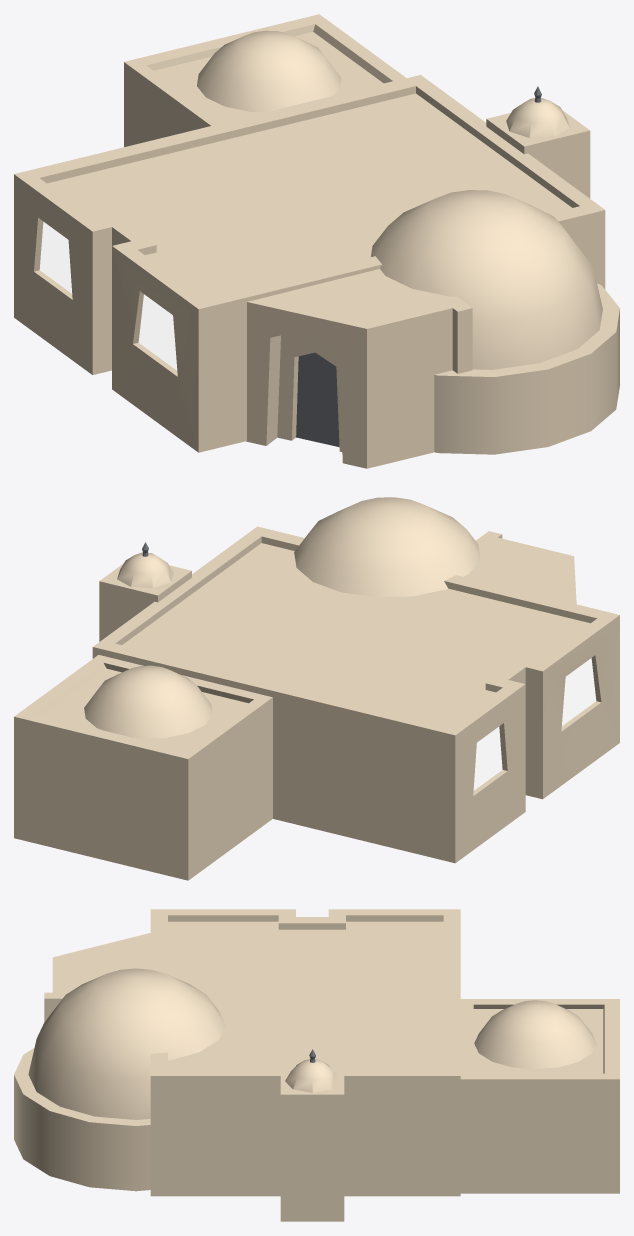
Rendered from cantina.glb.
3 renders of one model, top to bottom at view 1: azimuth 30°, elevation 25°; view 2: azimuth 150°, elevation 25°; view 3: azimuth 270°, elevation 25°, orthographic. The views are drawn at different scales.
Visible parts, largest first — view 1: Cantina, Door, Windows; view 2: Cantina, Windows; view 3: Cantina.
Boxes of the visible parts, x1,y1,x2,y2 form: Cantina: (14,14,619,468); Door: (296,352,339,446); Windows: (39,221,177,370); Cantina: (14,497,619,880); Windows: (473,658,596,790); Cantina: (14,909,619,1221).
Bounding box in the file's own units: 52.09 × 20.47 × 69.46.
